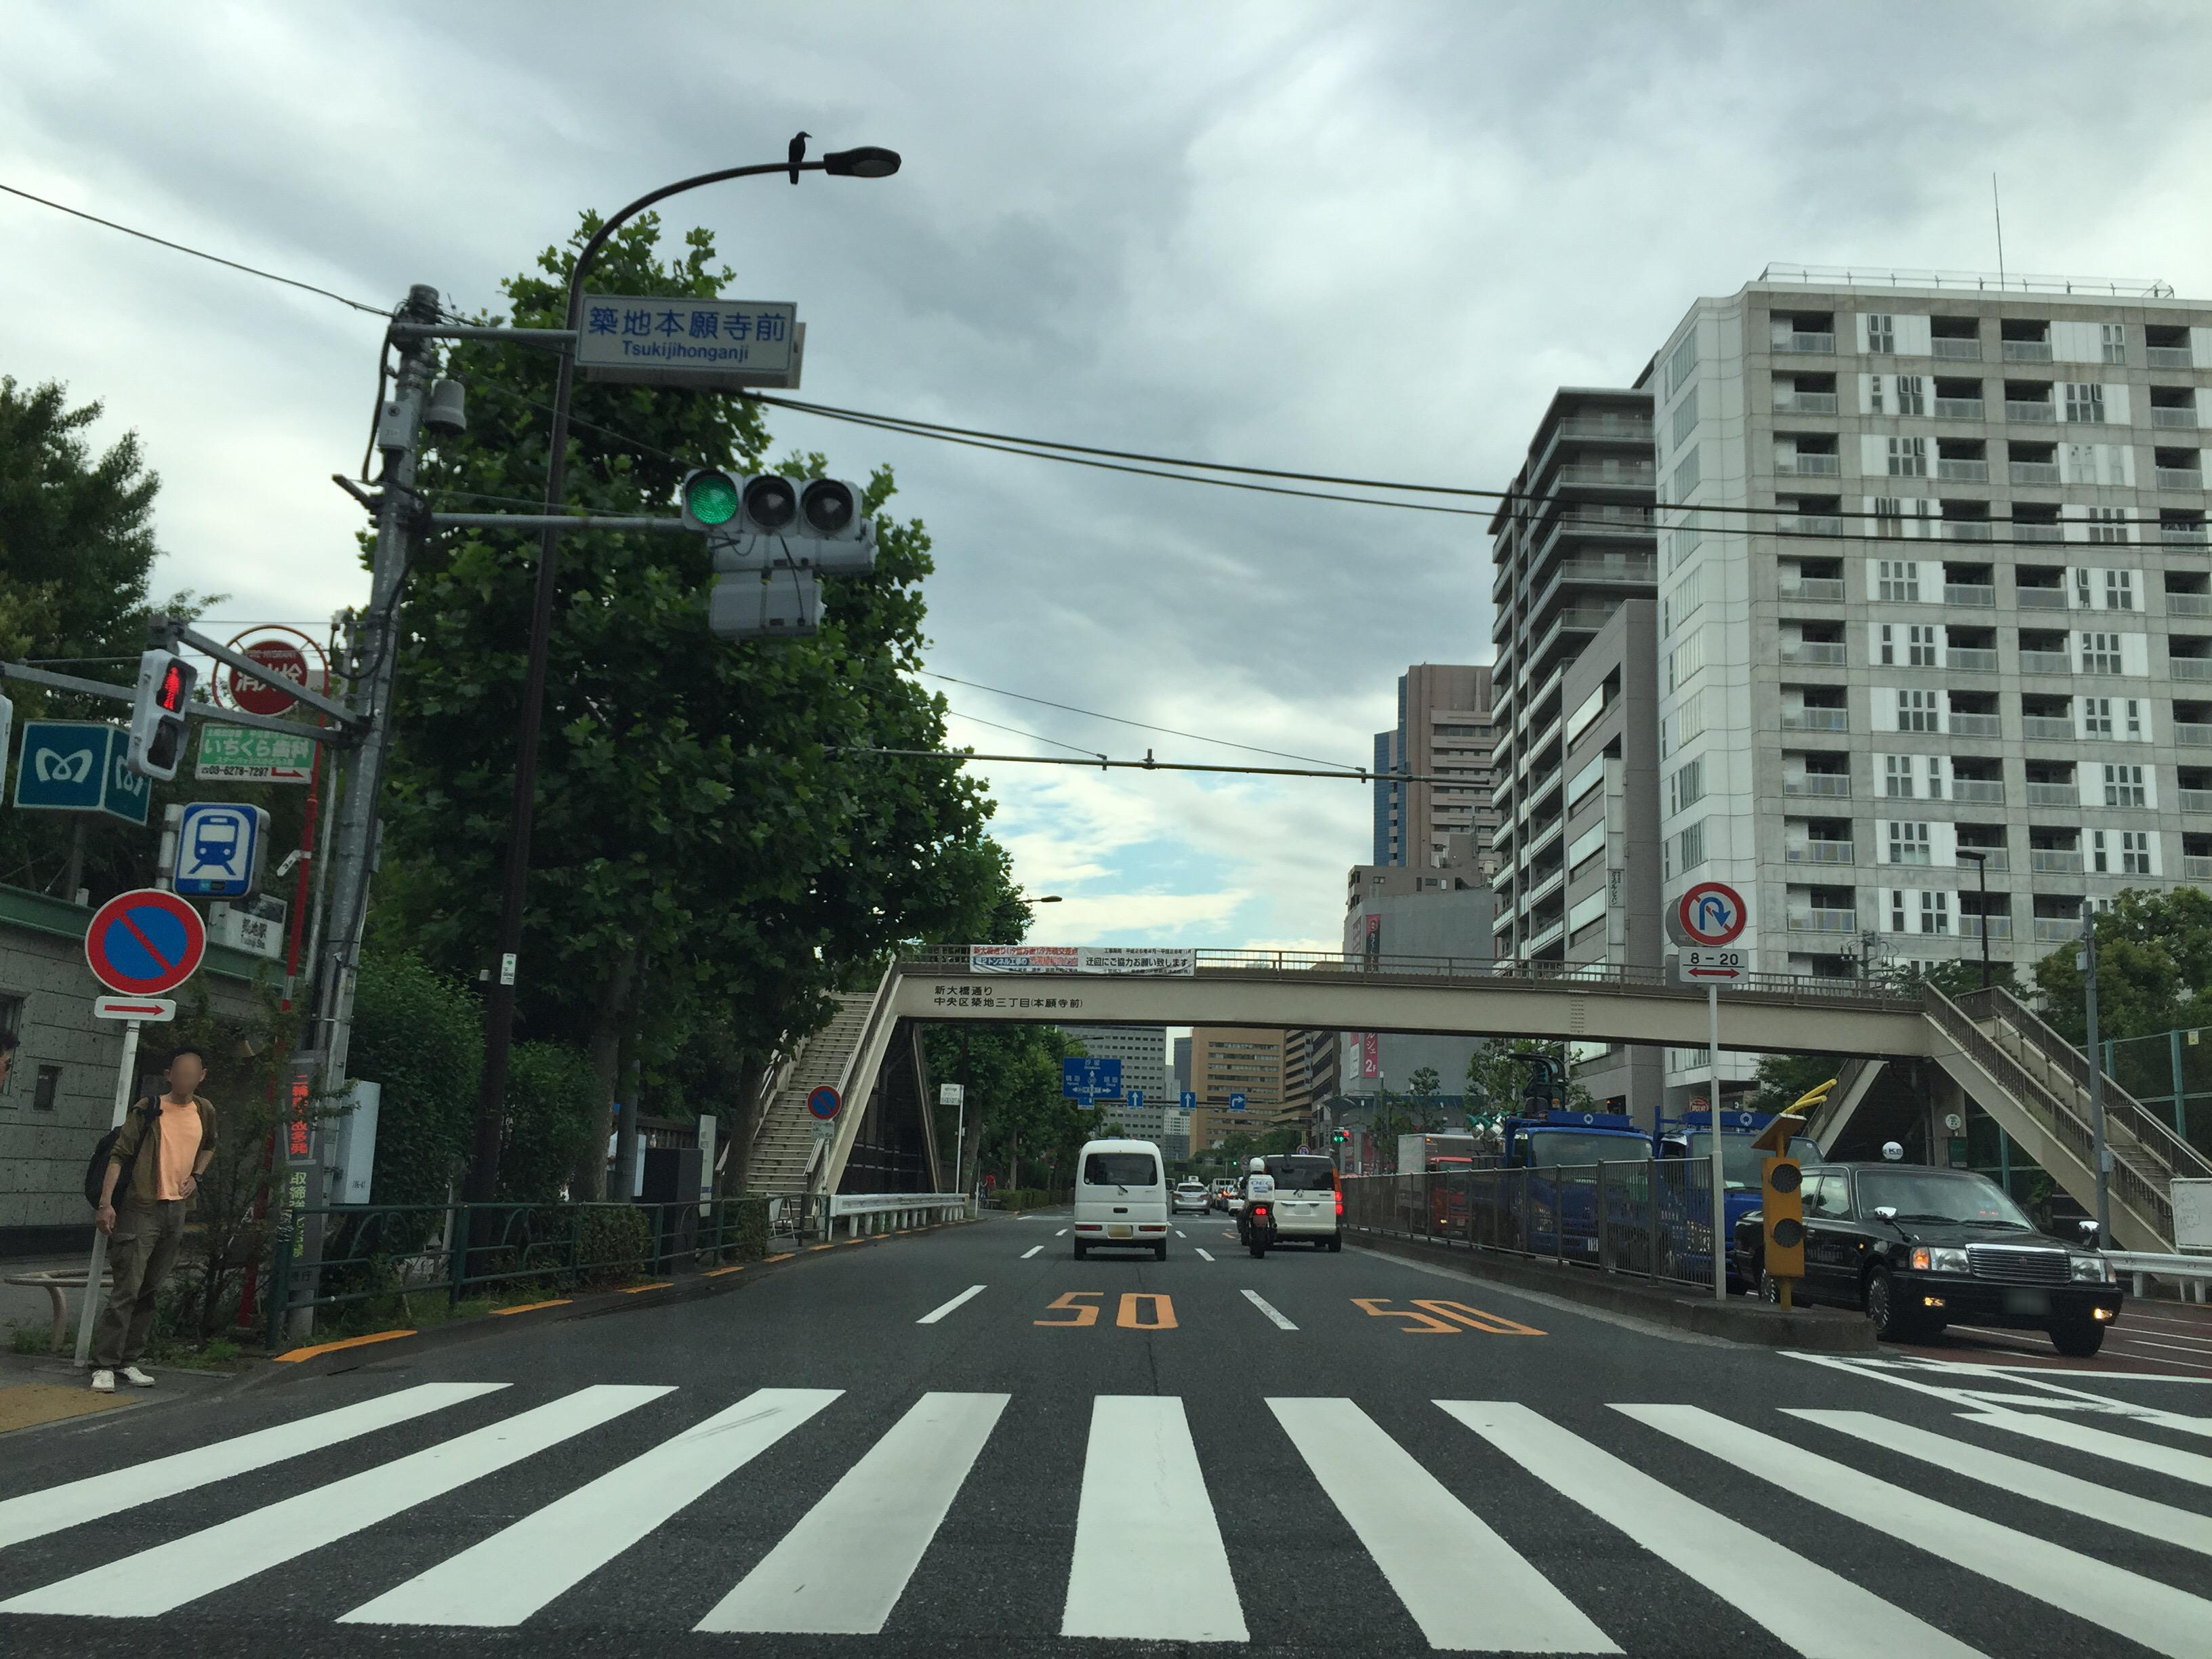vinyl banner: (958, 931, 1216, 1002)
